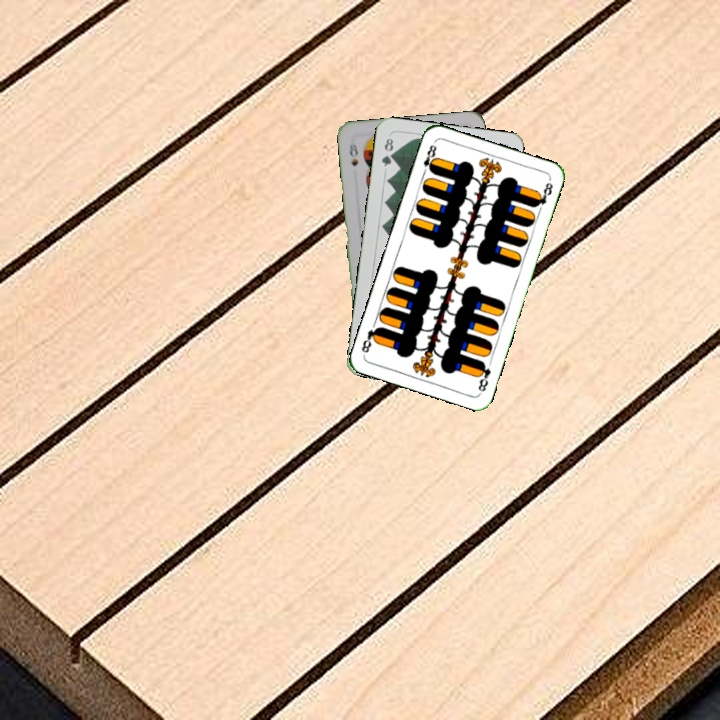E8: (418, 141, 439, 178), (474, 357, 494, 395)
G8: (377, 134, 396, 169)
S8: (345, 140, 361, 169)
